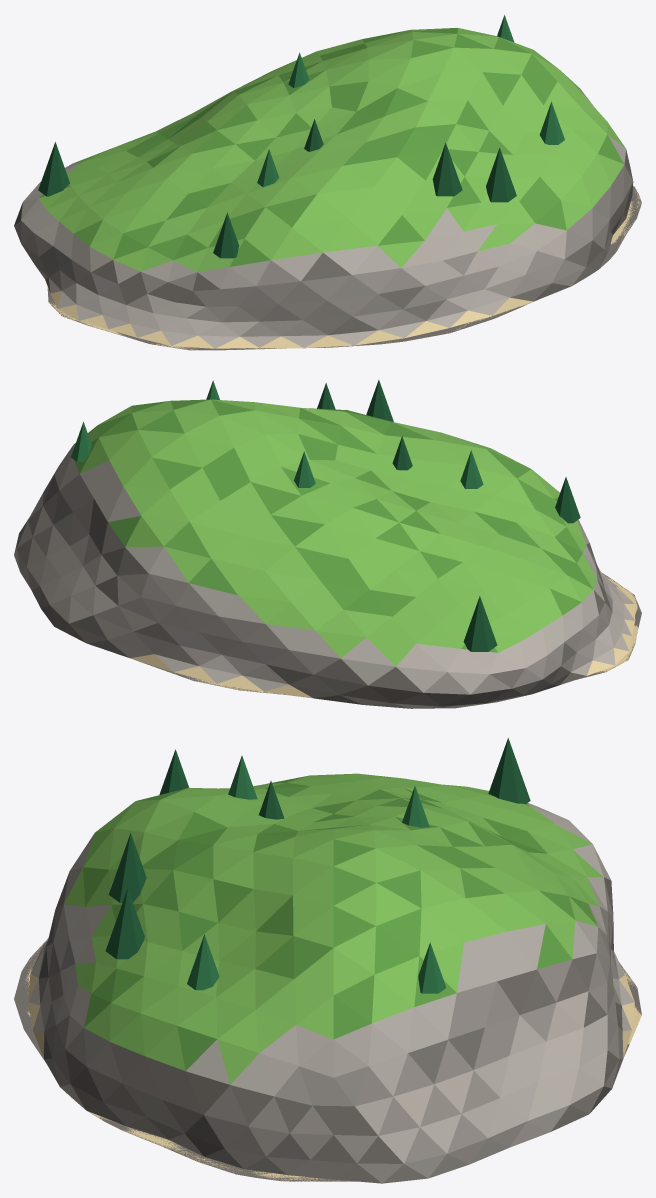
File: islet-a.glb
The picture shows the model from 3 angles, top to bottom: view 1: azimuth 30°, elevation 25°; view 2: azimuth 150°, elevation 25°; view 3: azimuth 270°, elevation 25°; orthographic projection. The views are drawn at different scales.
Parts seen in each view (by area): view 1: islet-a; view 2: islet-a; view 3: islet-a.
Boxes of the visible parts, x1,y1,x2,y2 form: islet-a: (14,15,641,350); islet-a: (14,379,641,708); islet-a: (14,738,641,1183).
Bounding box in the file's own units: 96.17 × 27.09 × 71.3.
